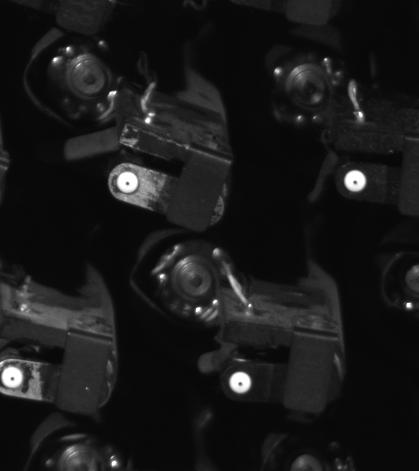fiber: (113, 167, 144, 198), (339, 167, 370, 198), (224, 369, 257, 397), (1, 361, 25, 391)
